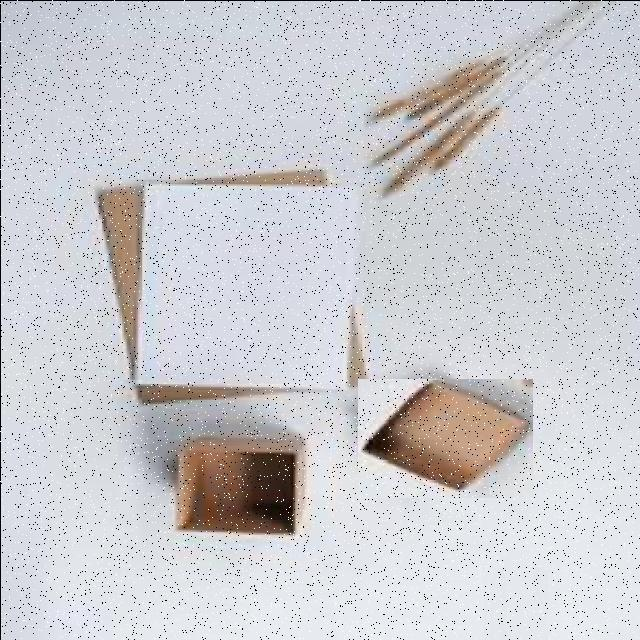defect: (357, 378, 532, 497), (168, 420, 317, 537)
